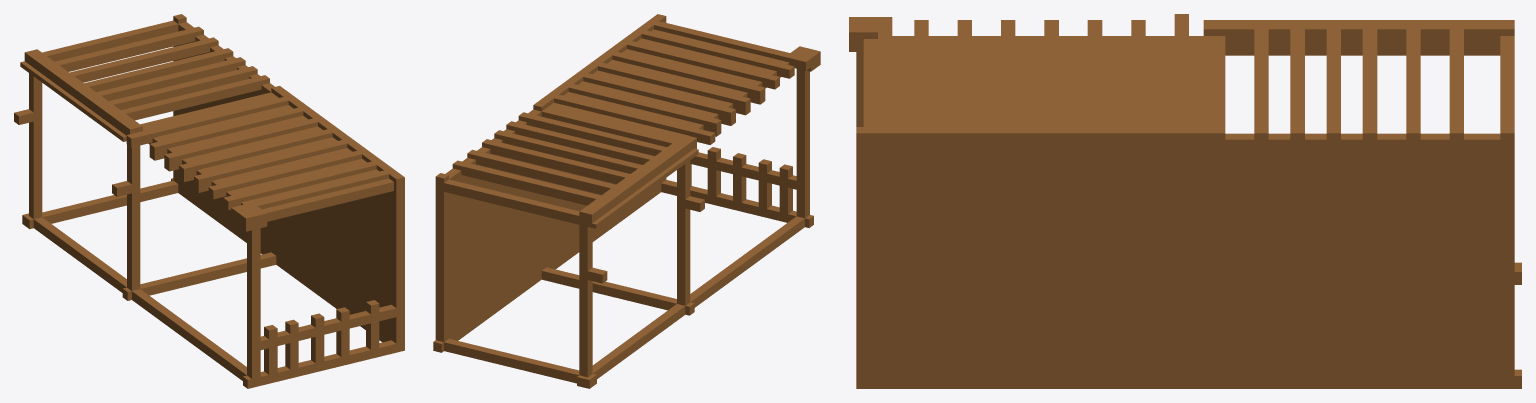
File: grup8-bakkal-a.fbx
The picture shows the model from 3 angles, left to right: view 1: azimuth 30°, elevation 25°; view 2: azimuth 150°, elevation 25°; view 3: azimuth 270°, elevation 25°; orthographic projection. The views are drawn at different scales.
Parts seen in each view (by area): view 1: bakkal_a; view 2: bakkal_a; view 3: bakkal_a.
Boxes of the visible parts, <box> form: bakkal_a: <box>14,14,404,388</box>; bakkal_a: <box>433,14,820,388</box>; bakkal_a: <box>849,14,1521,388</box>.
Size of the model in its own units: 790 by 780 by 1860.
Materials: 1 (1 with a texture image).
